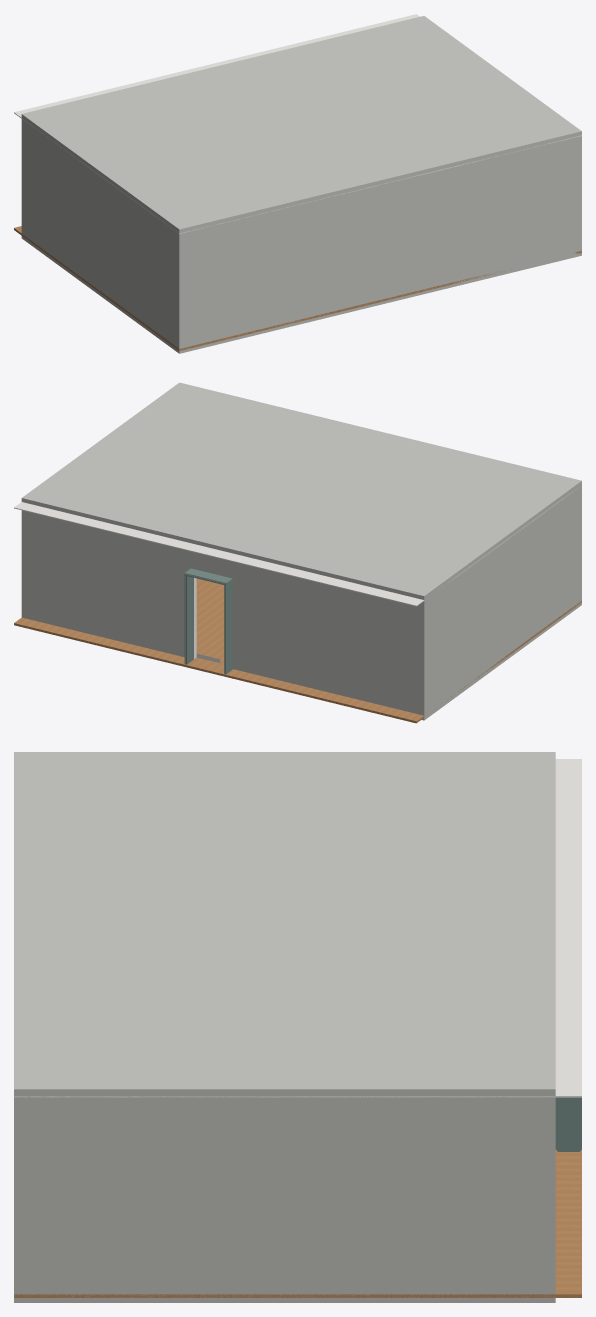
Rendered from infinigen-telehealth-home-visit.glb.
3 views of the same model, one above another, from view 1: azimuth 30°, elevation 25°; view 2: azimuth 150°, elevation 25°; view 3: azimuth 270°, elevation 25° (orthographic). The views are drawn at different scales.
Visible parts, largest first — view 1: bedroom_0/0.exterior, openclinxr_ceiling_painted, openclinxr_floor_field; view 2: bedroom_0/0.exterior, openclinxr_floor_field, openclinxr_ceiling_painted, bedroom_0/0.door_casing; view 3: bedroom_0/0.exterior, openclinxr_ceiling_painted, openclinxr_floor_field, bedroom_0/0.door_casing.
Part boxes in pixels (x1,y1,x2,y2): bedroom_0/0.exterior: [21, 16, 581, 353]; openclinxr_ceiling_painted: [14, 14, 581, 233]; openclinxr_floor_field: [14, 226, 581, 350]; bedroom_0/0.exterior: [21, 382, 581, 720]; openclinxr_floor_field: [14, 578, 581, 723]; openclinxr_ceiling_painted: [14, 487, 579, 606]; bedroom_0/0.door_casing: [184, 568, 232, 674]; bedroom_0/0.exterior: [14, 752, 555, 1302]; openclinxr_ceiling_painted: [14, 759, 581, 1097]; openclinxr_floor_field: [14, 1149, 581, 1297]; bedroom_0/0.door_casing: [555, 1097, 581, 1151].
Size of the model in its own units: 9.72 by 2.87 by 6.92.
9 materials, 7 textured.
